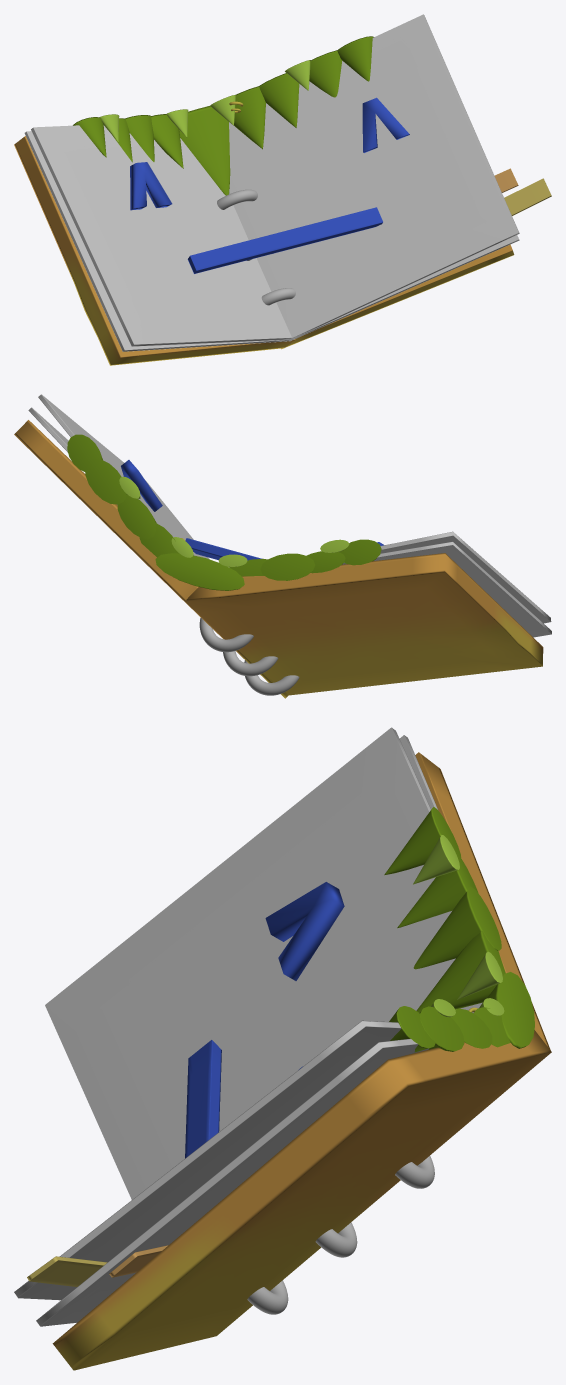
Rendered from VGD_3D Commission_OPENBOOK_HR_06_25.glb.
The picture shows the model from 3 angles, top to bottom: view 1: azimuth 30°, elevation 25°; view 2: azimuth 150°, elevation 25°; view 3: azimuth 270°, elevation 25°; orthographic projection. The views are drawn at different scales.
Visible parts, largest first — view 1: Merged_PM3D_Cube3D1; view 2: Merged_PM3D_Cube3D1; view 3: Merged_PM3D_Cube3D1.
Part boxes in pixels (left/top/right/bottom): Merged_PM3D_Cube3D1: left=14, top=14, right=551, bottom=365; Merged_PM3D_Cube3D1: left=14, top=394, right=551, bottom=698; Merged_PM3D_Cube3D1: left=14, top=727, right=551, bottom=1370.
Bounding box in the file's own units: 3.76 × 2.21 × 2.26.
